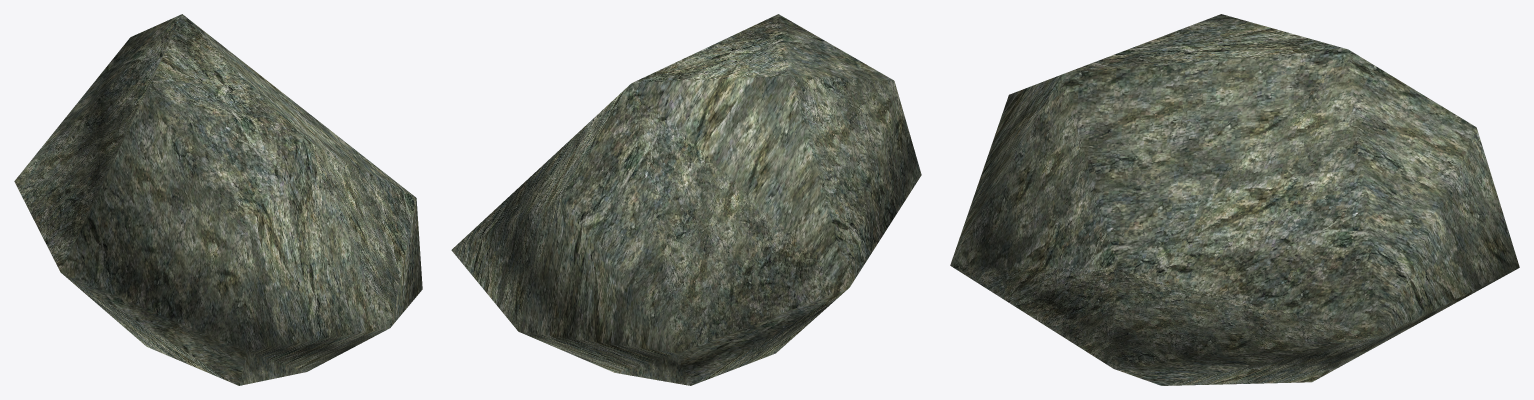
The model's file is mtns_rock_grey_a1_l2.fbx.
3 renders of one model, left to right at view 1: azimuth 30°, elevation 25°; view 2: azimuth 150°, elevation 25°; view 3: azimuth 270°, elevation 25°, orthographic. The views are drawn at different scales.
Parts seen in each view (by area): view 1: mesh_node; view 2: mesh_node; view 3: mesh_node.
Boxes of the visible parts, box(x1,y1,x2,y2) form: mesh_node: box(14, 14, 422, 385); mesh_node: box(451, 14, 921, 385); mesh_node: box(950, 14, 1519, 385).
Bounding box in the file's own units: 1.37 × 1.12 × 1.93.
Materials: 1 (1 with a texture image).
